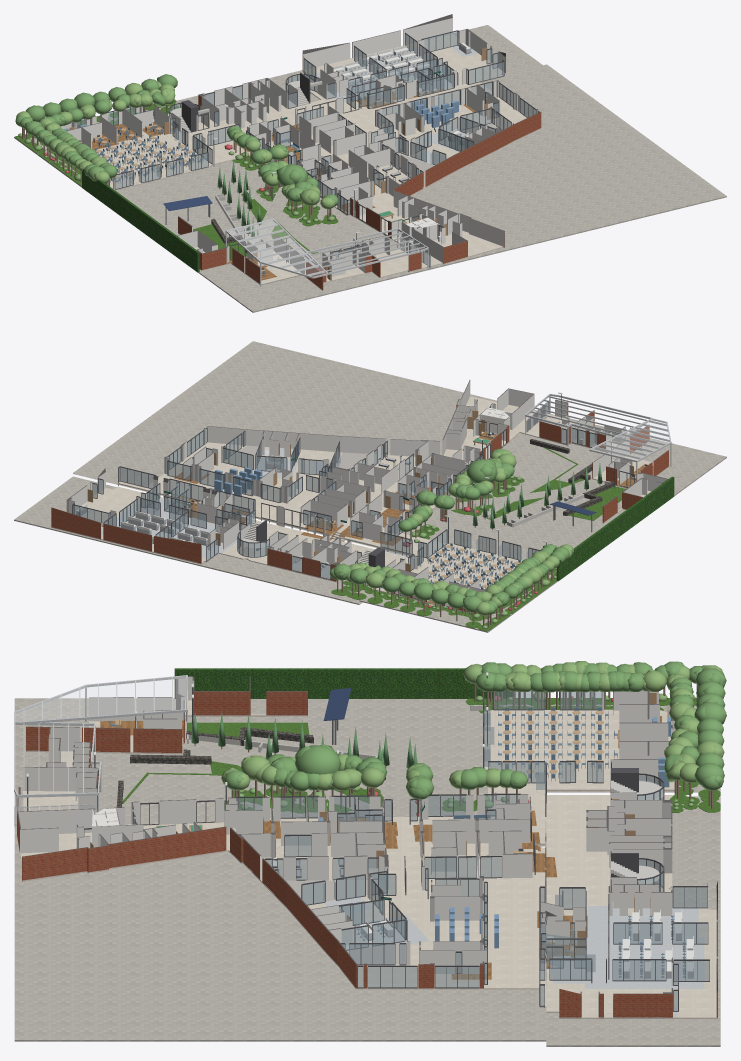
The model's file is floor-1.glb.
3 renders of one model, top to bottom at view 1: azimuth 30°, elevation 25°; view 2: azimuth 150°, elevation 25°; view 3: azimuth 270°, elevation 25°, orthographic. The views are drawn at different scales.
Visible parts, largest first — view 1: Site, Walls, Floor_Slab, Glass, Deco_Tree_Crowns_0_2, Floor_Zones, Deco_Grass, Canopy_Access_Roof, Deco_Green_Wall, Glass_Frames_Top, Deco_Tree_Crowns_1_1, Canopy_Terrace_Frame (+22 smaller); view 2: Site, Walls, Floor_Slab, Glass, Deco_Tree_Crowns_0_2, Floor_Zones, Deco_Grass, Deco_Green_Wall, Glass_Frames_Top, Deco_Tree_Crowns_1_1, Canopy_Access_Roof, Canopy_Terrace_Frame (+22 smaller); view 3: Site, Walls, Floor_Slab, Glass, Floor_Zones, Deco_Tree_Crowns_0_2, Deco_Green_Wall, Deco_Tree_Crowns_1_1, Deco_Grass, Canopy_Access_Roof, Glass_Frames_Top, Ramps_Stairs (+25 smaller).
Part boxes in pixels (x1,y1,x2,y2): Site: (14,25,726,312); Walls: (61,14,541,289); Floor_Slab: (96,34,541,290); Glass: (76,31,536,257); Deco_Tree_Crowns_0_2: (15,78,165,181); Floor_Zones: (92,45,487,280); Deco_Grass: (15,100,338,260); Canopy_Access_Roof: (227,219,326,276); Deco_Green_Wall: (82,169,199,272); Glass_Frames_Top: (82,30,539,252); Deco_Tree_Crowns_1_1: (236,134,320,205); Canopy_Terrace_Frame: (302,228,428,274); Site: (14,341,726,632); Walls: (51,380,668,613); Floor_Slab: (51,396,668,613); Glass: (73,428,596,606); Deco_Tree_Crowns_0_2: (349,544,571,614); Floor_Zones: (75,431,653,605); Deco_Grass: (331,447,625,631); Deco_Green_Wall: (556,476,674,581); Glass_Frames_Top: (72,406,634,565); Deco_Tree_Crowns_1_1: (412,453,516,522); Canopy_Access_Roof: (591,418,670,460); Canopy_Terrace_Frame: (525,394,652,446); Site: (14,698,720,1046); Walls: (17,676,717,1017); Floor_Slab: (17,700,717,1018); Glass: (237,689,709,1010); Floor_Zones: (100,716,704,1017); Deco_Tree_Crowns_0_2: (475,661,726,774); Deco_Green_Wall: (174,668,515,698); Deco_Tree_Crowns_1_1: (241,744,486,799); Deco_Grass: (122,698,720,813); Canopy_Access_Roof: (15,675,186,721); Glass_Frames_Top: (84,690,709,996); Ramps_Stairs: (147,821,662,1018).
Size of the model in its own units: 87.83 by 7.22 by 76.75.
Materials: 43 (14 with a texture image).
